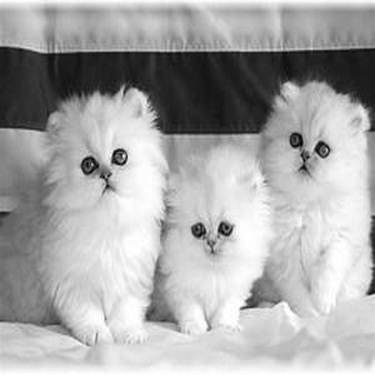cat: (1, 86, 167, 348), (248, 77, 373, 326), (155, 140, 273, 341)
